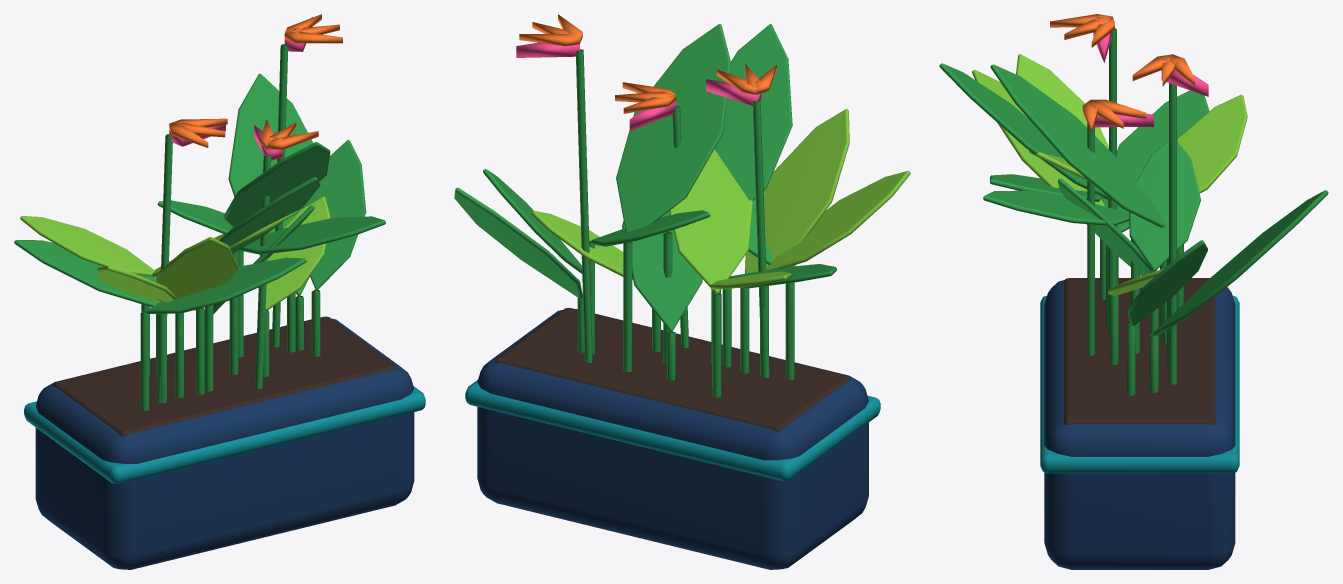
Rendered from aqua_planter.glb.
3 views of the same model, side by side, from view 1: azimuth 30°, elevation 25°; view 2: azimuth 150°, elevation 25°; view 3: azimuth 270°, elevation 25° (orthographic). The views are drawn at different scales.
Visible parts, largest first — view 1: Planter; view 2: Planter; view 3: Planter.
Boxes of the visible parts, x1,y1,x2,y2 form: Planter: (14,14,425,569); Planter: (454,14,910,569); Planter: (939,14,1328,569).
Size of the model in its own units: 1.54 by 1.95 by 1.43.
